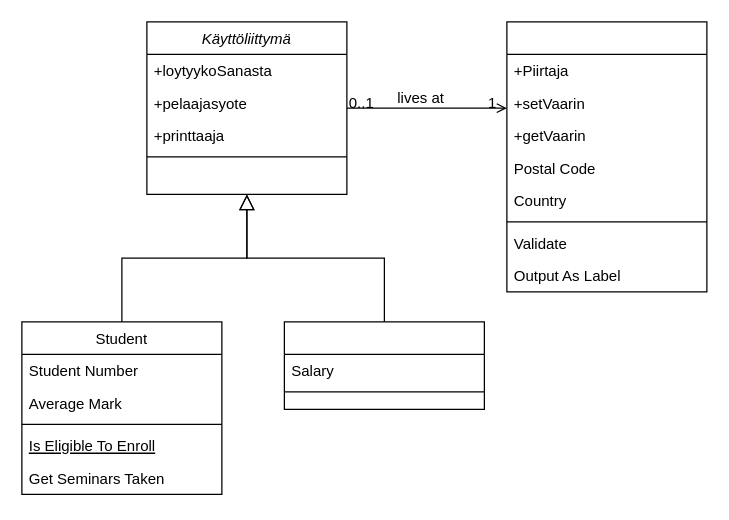
This 729x520 diagram has some shape labels left out. Each missing label, with the box of its shape:
Piirtäjä: (506, 21, 707, 292)
Professor: (283, 321, 484, 409)
